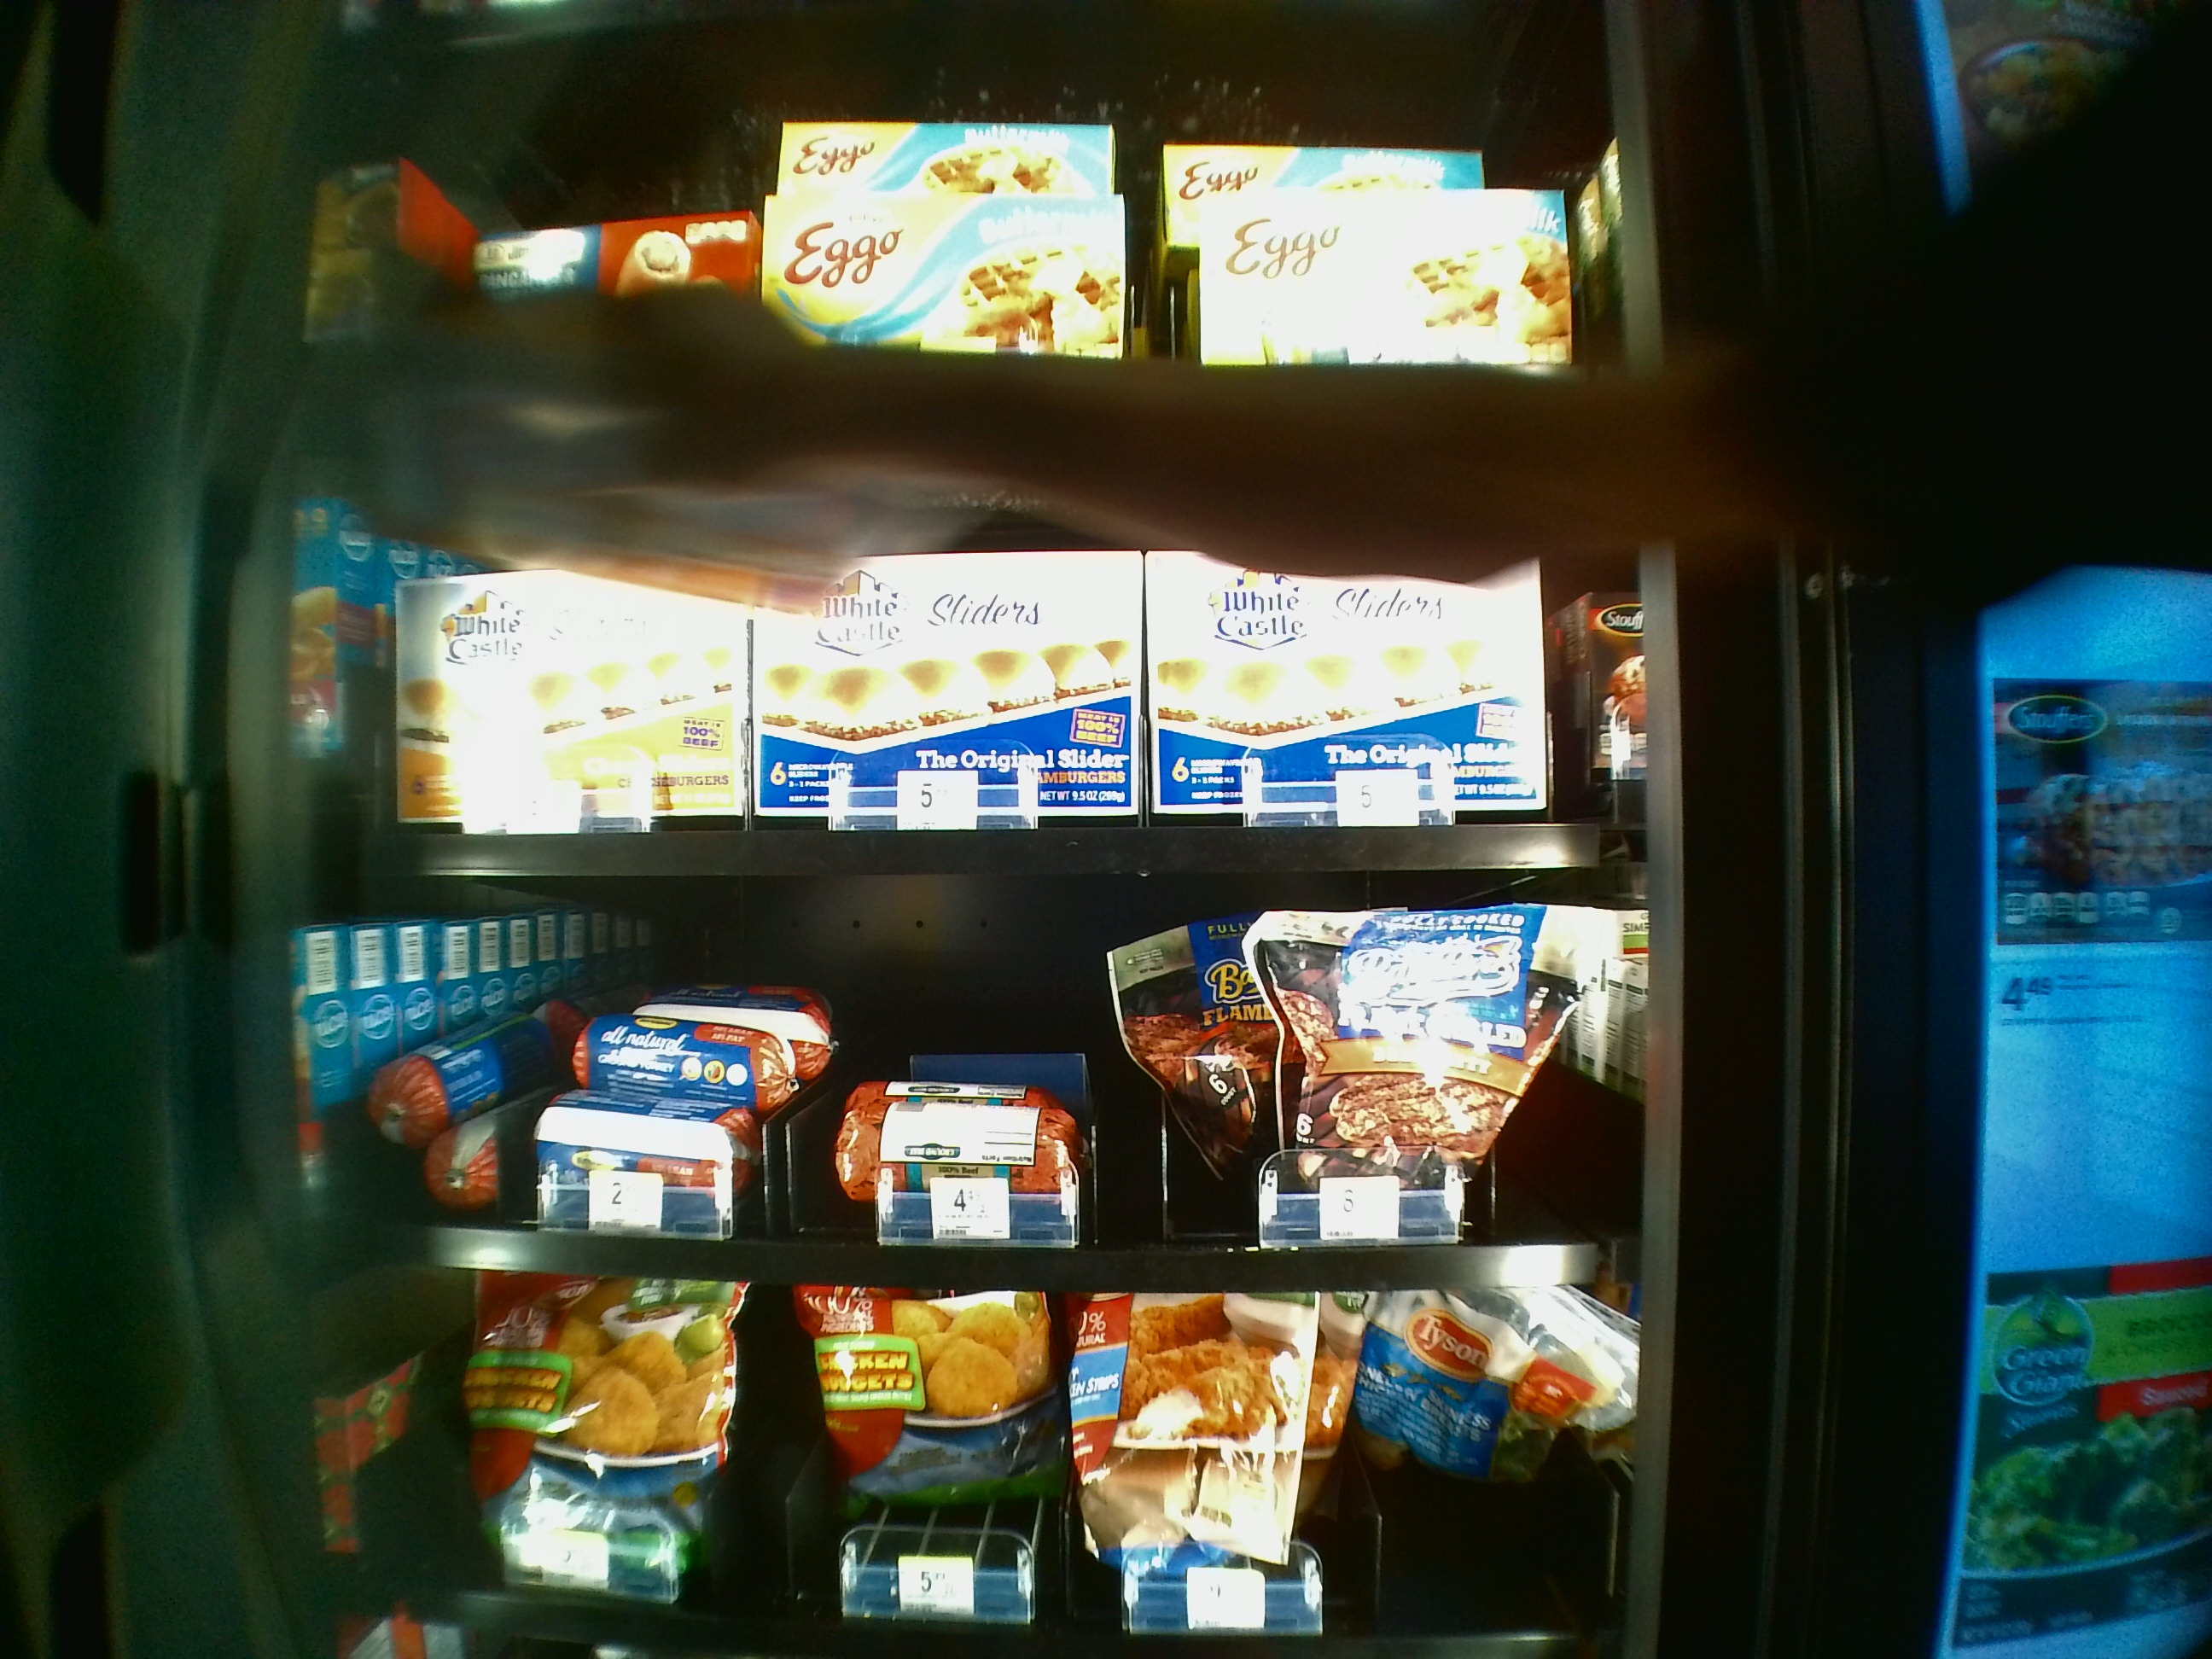shelf: (324, 878, 1634, 1303)
